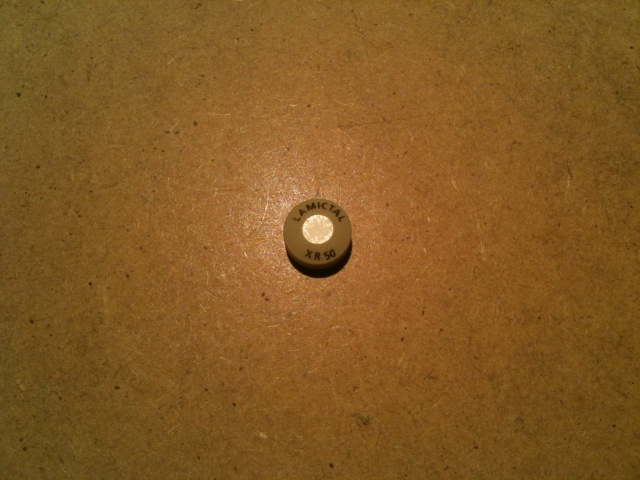0: (329, 248, 335, 258)
5: (322, 250, 331, 260)
A: (333, 209, 341, 216), (299, 209, 306, 216)
C: (321, 202, 328, 211)
I: (318, 201, 321, 210)
L: (337, 216, 346, 224), (293, 216, 302, 223)
M: (306, 201, 316, 212)
R: (314, 250, 322, 261)
T: (328, 203, 335, 212)
X: (304, 247, 313, 260)
